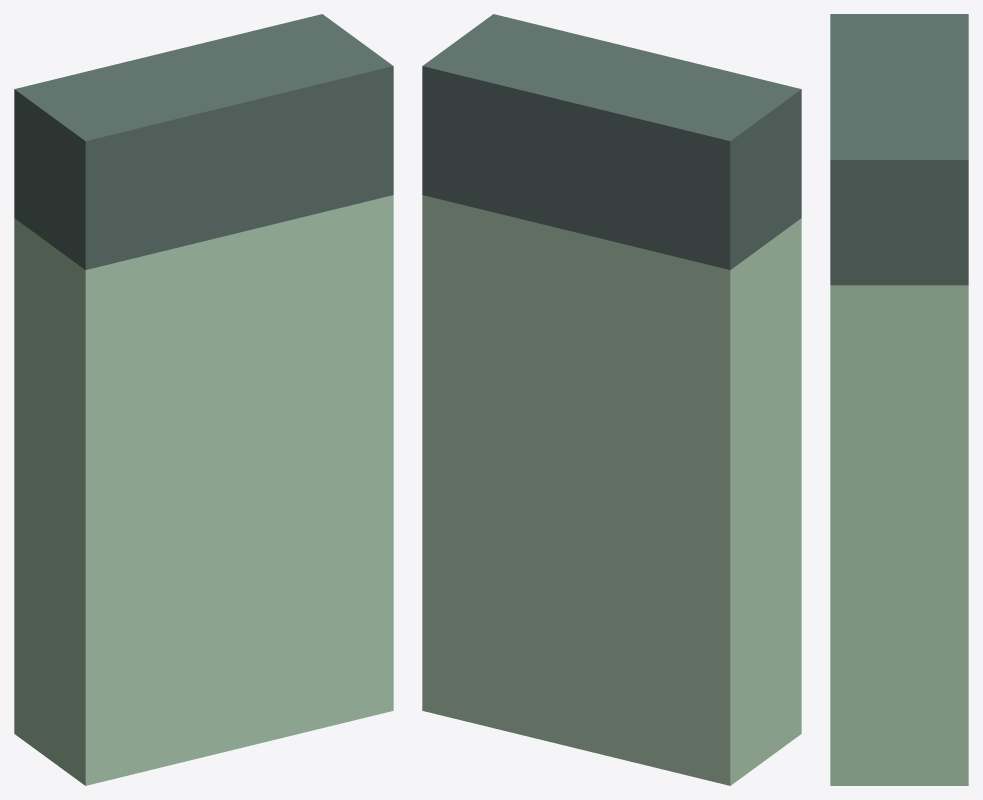
File: Wall2m1mWidth.fbx
3 views of the same model, side by side, from view 1: azimuth 30°, elevation 25°; view 2: azimuth 150°, elevation 25°; view 3: azimuth 270°, elevation 25° (orthographic). The views are drawn at different scales.
Visible parts, largest first — view 1: Wall2m1mWidth; view 2: Wall2m1mWidth; view 3: Wall2m1mWidth.
Boxes of the visible parts, <box> form: Wall2m1mWidth: <box>14,14,393,785</box>; Wall2m1mWidth: <box>422,14,801,785</box>; Wall2m1mWidth: <box>830,14,968,785</box>.
Size of the model in its own units: 1 by 2 by 0.4.
